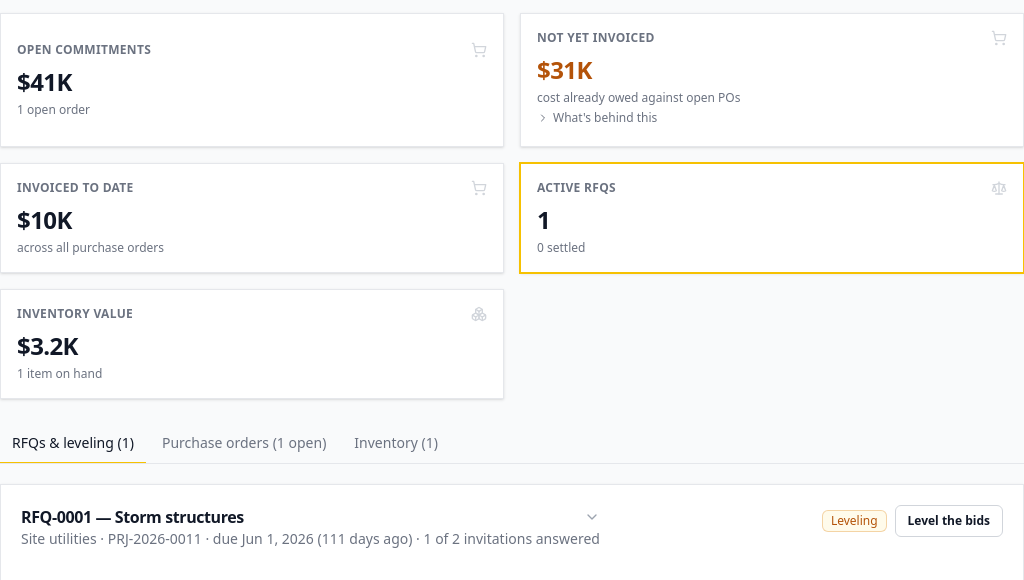
it: inventory › shows the three quantities so the generated one can be checked
Click the tab "Inventory (1)": click(396, 443) top-left (342, 423), bottom-right (450, 463)
(page scrolled)
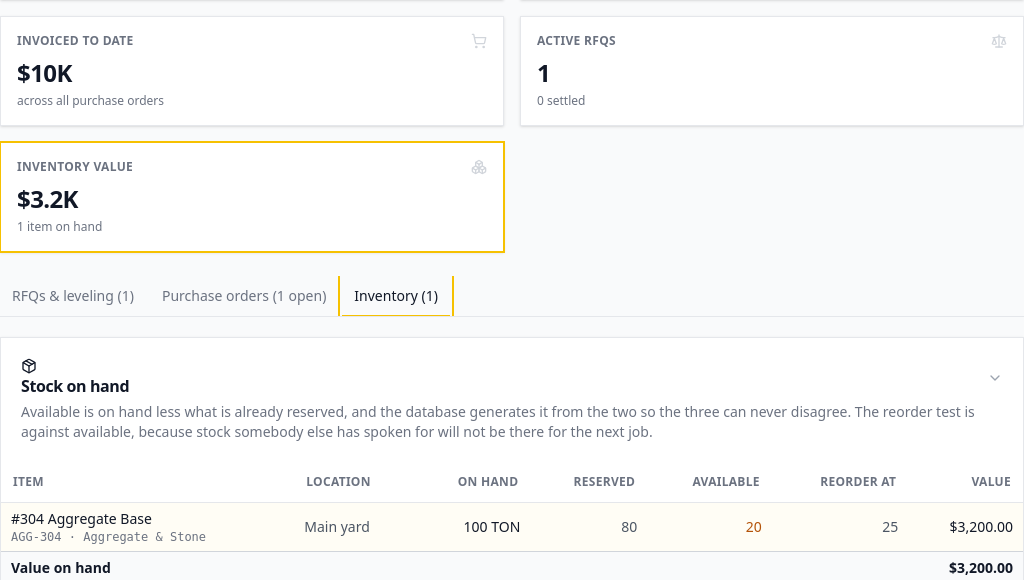
Expected: the text "100 TON" is shown, top-left (415, 502), bottom-right (530, 551)
Expected: the text "80" is shown, top-left (530, 502), bottom-right (647, 551)
Expected: the text "20" is shown, top-left (647, 502), bottom-right (772, 551)
